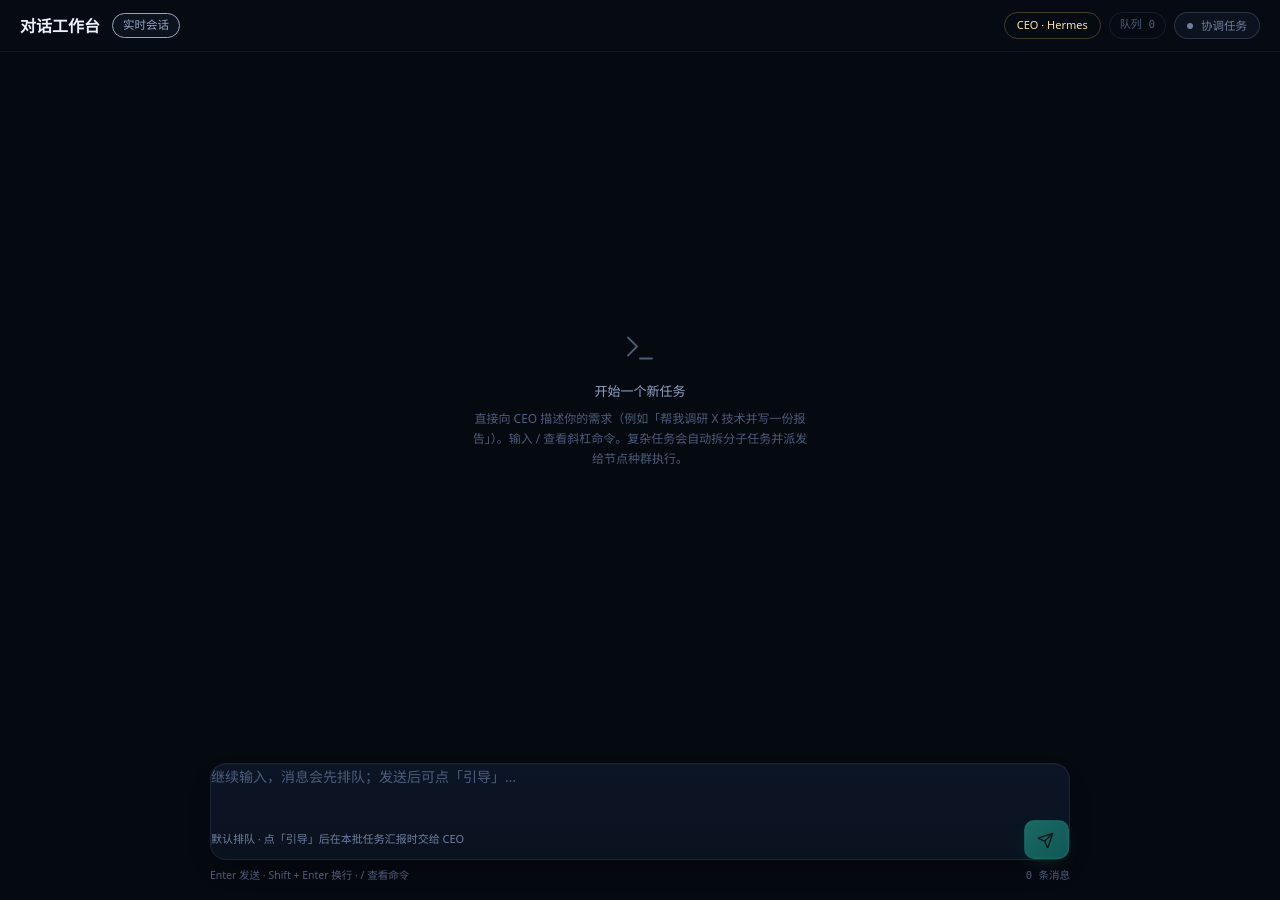
Test case: ChatView 队列面板 › 队列为空时按钮可点开空态提示
Click the button titled "任务队列（查看 / 编辑 / 撤销排队消息）": point(1137, 26) [1109,12,1166,39]
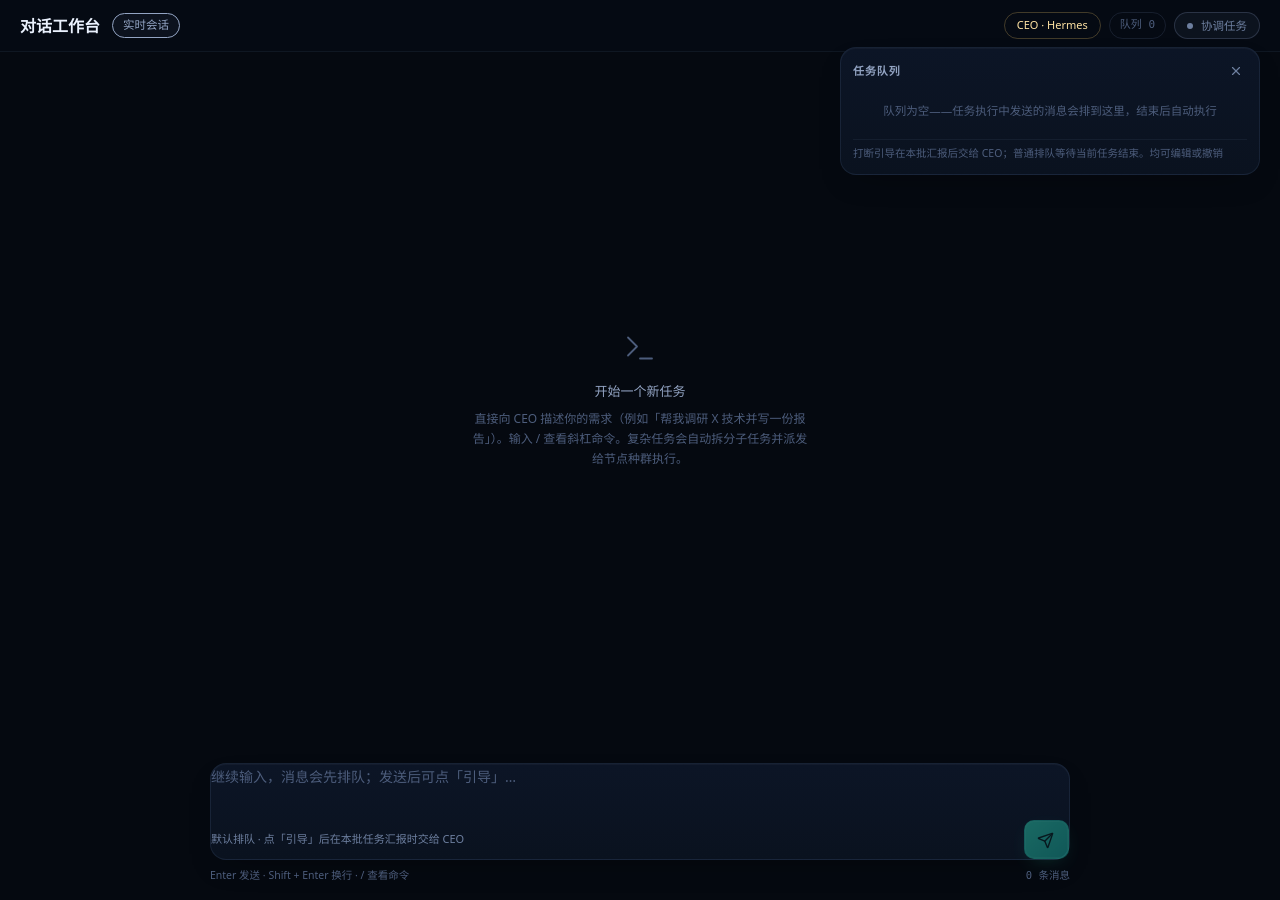
Check: the text "队列为空——任务执行中发送的消息会排到这里，结束后自动执行" is shown, box [883,103,1217,118]
